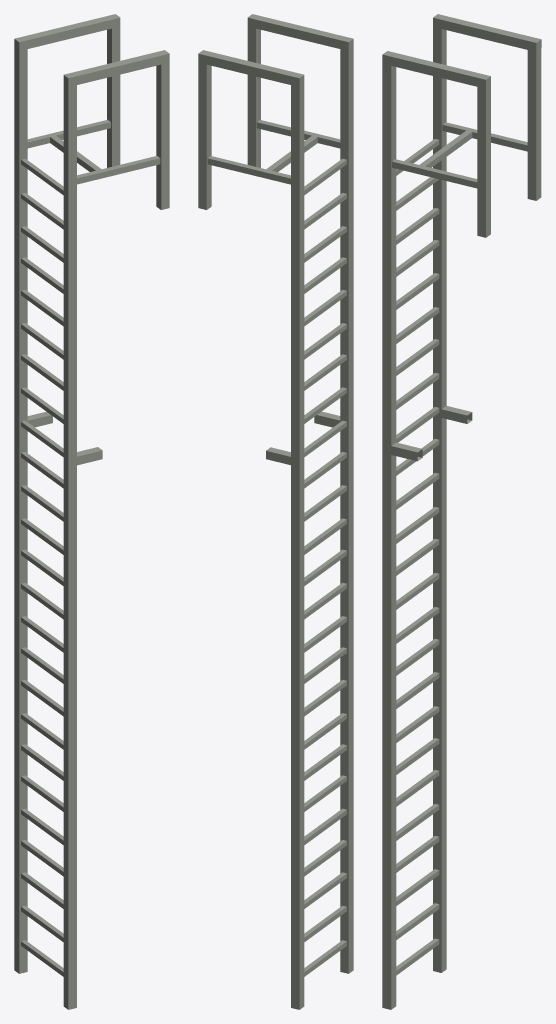
The model's file is SM_Stairs_03.fbx.
3 renders of one model, left to right at view 1: azimuth 30°, elevation 25°; view 2: azimuth 150°, elevation 25°; view 3: azimuth 330°, elevation 25°, orthographic. The views are drawn at different scales.
Visible parts, largest first — view 1: SM_Stairs_03; view 2: SM_Stairs_03; view 3: SM_Stairs_03.
Part boxes in pixels (<box>): SM_Stairs_03: <box>14,14,169,1009</box>; SM_Stairs_03: <box>198,14,353,1009</box>; SM_Stairs_03: <box>382,14,541,1009</box>.
Size of the model in its own units: 97.73 by 859 by 90.51.
